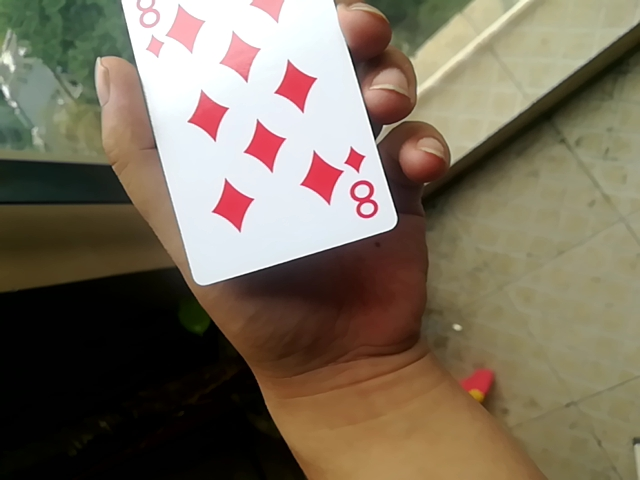fk 8: (125, 2, 393, 296)
